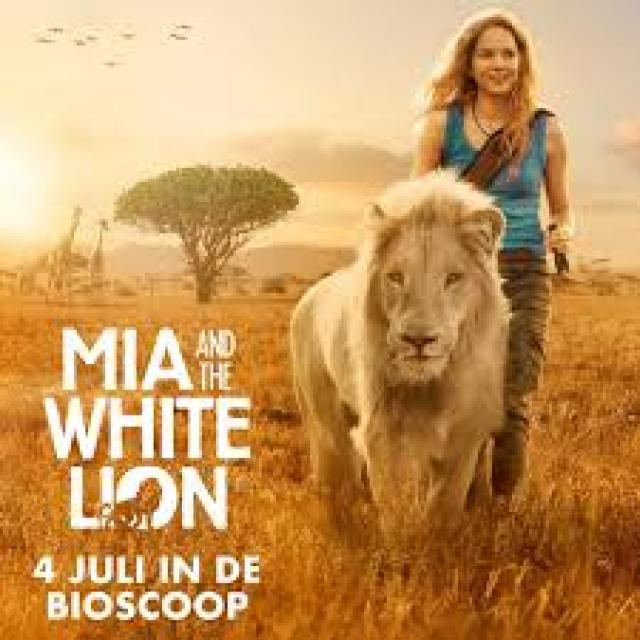Lion: (290, 168, 518, 527)
